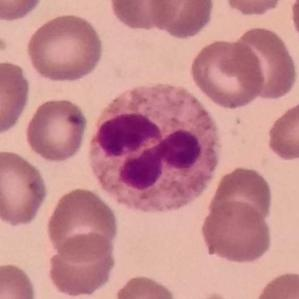Neutrophil: (87, 80, 222, 218)
RBC: (24, 11, 106, 84), (44, 186, 121, 262), (188, 36, 266, 110), (230, 23, 299, 102), (44, 231, 119, 298), (199, 199, 274, 265), (23, 96, 90, 164), (208, 164, 275, 228), (0, 147, 50, 228), (147, 0, 216, 41), (0, 58, 33, 138), (264, 96, 299, 163), (107, 0, 179, 32), (112, 272, 181, 299), (0, 260, 38, 299), (251, 268, 299, 298), (218, 0, 291, 18), (0, 0, 44, 23), (177, 289, 249, 299), (288, 0, 299, 51)
